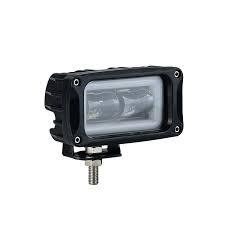Lamp: (39, 46, 188, 187)
